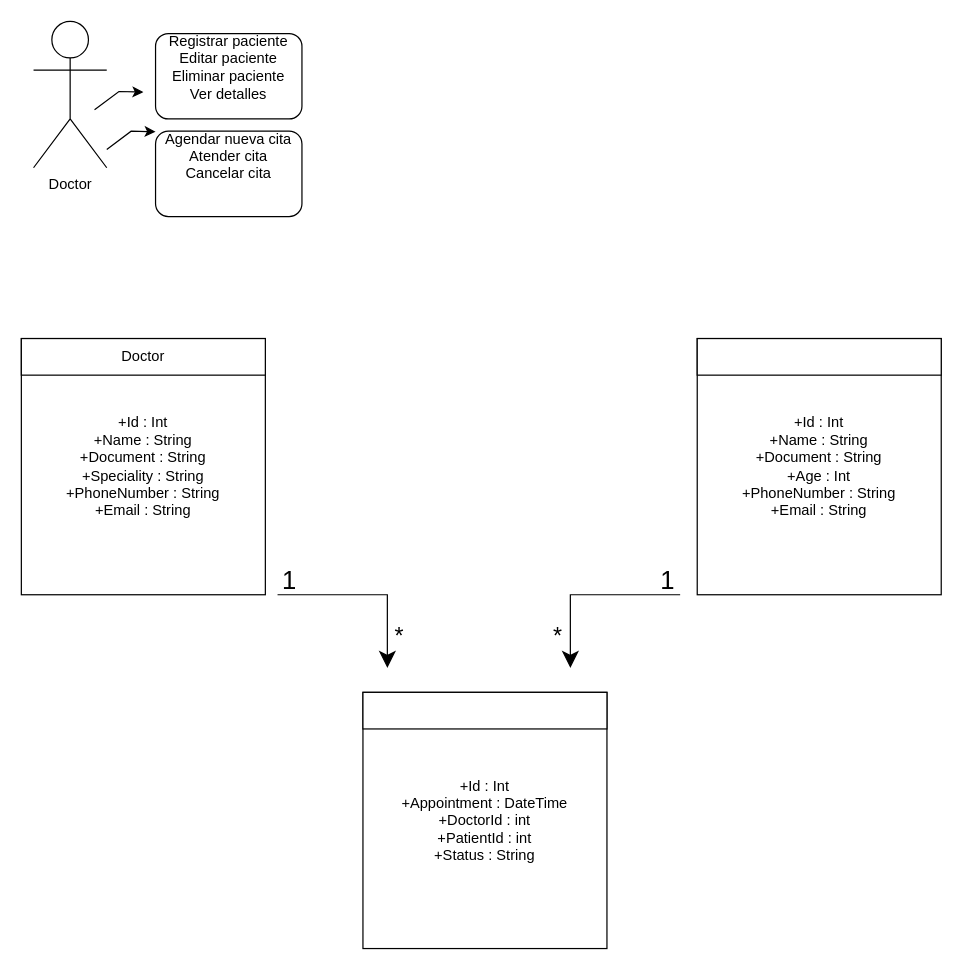
Some shapes in this 963 by 970 pixel diagram are drawn without their labels. The centre of each missing label's shape, as x and y in pixels:
"MedicalDate" belongs at [484,710].
"Patients" belongs at [818,356].
